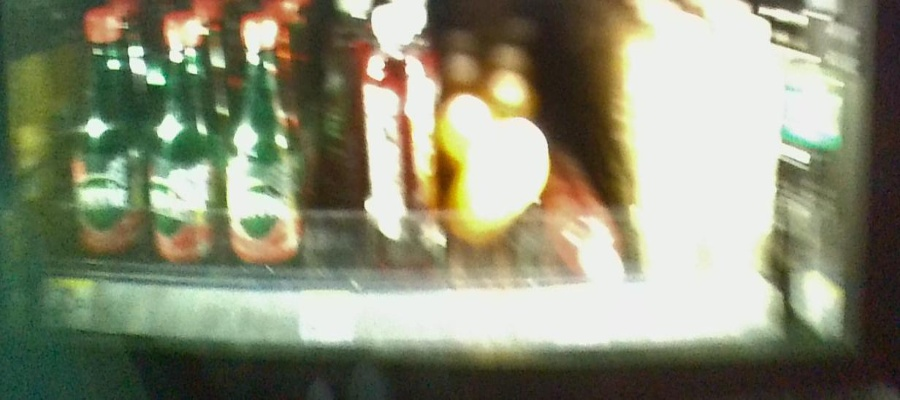bottle: (364, 1, 438, 268), (146, 5, 216, 264), (70, 6, 141, 260), (226, 13, 297, 266)
